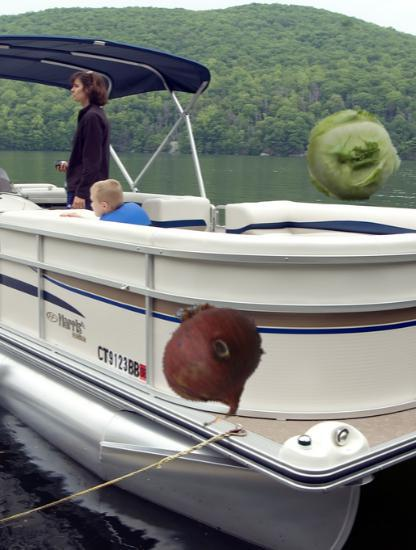Kohlrabi: (305, 107, 402, 204)
Onion: (142, 283, 280, 421)
